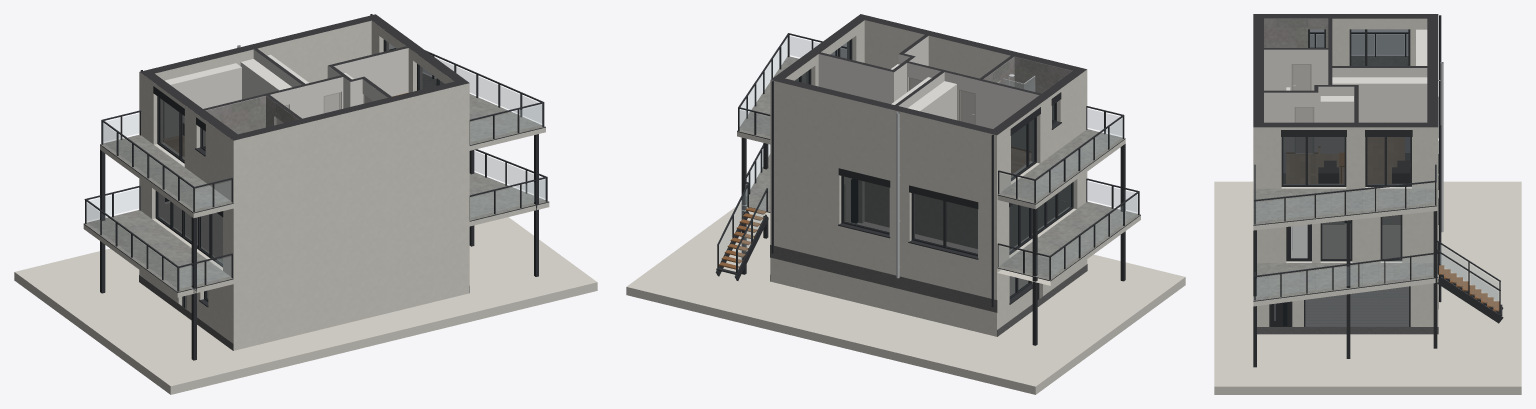
The model's file is dum_b_2np.glb.
The picture shows the model from 3 angles, left to right: view 1: azimuth 30°, elevation 25°; view 2: azimuth 150°, elevation 25°; view 3: azimuth 270°, elevation 25°; orthographic projection. The views are drawn at different scales.
Parts seen in each view (by area): view 1: B_ext_omitka, podstava, B_ext_dlazba_balkon, B_ext_sklo_zabradli, B_ext_antracit, rez_sten, B_int_omitka_int, B_sklo_sklo, skrin_loz, pevne_obklad, skrin_loz_vstup, B_ext_sokl; view 2: B_ext_omitka, podstava, B_ext_antracit, B_ext_dlazba_balkon, B_ext_sklo_zabradli, B_sklo_sklo, B_int_omitka_int, rez_sten, B_ext_sokl, pevne_obklad, skrin_loz_vstup, B_ext_drevo (+2 smaller); view 3: podstava, B_ext_omitka, B_ext_dlazba_balkon, B_ext_antracit, B_sklo_sklo, B_ext_sklo_zabradli, rez_sten, B_int_omitka_int, B_ext_vrata, skrin_p112, pevne_vinyl, pevne_obklad (+11 smaller).
Boxes of the visible parts, x1,y1,x2,y2 form: B_ext_omitka: (83,20,549,350); podstava: (14,217,597,394); B_ext_dlazba_balkon: (84,73,548,291); B_ext_sklo_zabradli: (86,58,545,288); B_ext_antracit: (84,14,548,360); rez_sten: (140,14,469,140); B_int_omitka_int: (205,48,408,125); B_sklo_sklo: (157,40,444,309); skrin_loz: (163,63,241,138); pevne_obklad: (206,96,297,134); skrin_loz_vstup: (240,59,291,99); B_ext_sokl: (139,275,469,350); B_ext_omitka: (737,20,1140,336); podstava: (626,202,1185,394); B_ext_antracit: (715,33,1140,345); B_ext_dlazba_balkon: (737,56,1140,280); B_ext_sklo_zabradli: (719,36,1137,276); B_sklo_sklo: (795,40,1071,296); B_int_omitka_int: (818,36,1039,150); rez_sten: (771,14,1086,135); B_ext_sokl: (770,244,1087,336); pevne_obklad: (984,57,1071,93); skrin_loz_vstup: (908,81,956,120); B_ext_drevo: (718,207,766,269); podstava: (1214,181,1521,394); B_ext_omitka: (1253,18,1438,326); B_ext_dlazba_balkon: (1253,56,1438,300); B_ext_antracit: (1253,15,1503,367); B_sklo_sklo: (1283,29,1410,326); B_ext_sklo_zabradli: (1256,184,1498,310); rez_sten: (1253,14,1438,127); B_int_omitka_int: (1264,49,1427,151); B_ext_vrata: (1305,286,1408,326); skrin_p112: (1332,77,1427,122); pevne_vinyl: (1286,137,1404,183); pevne_obklad: (1264,19,1328,47).
Bounding box in the file's own units: 18.6 × 9.14 × 11.8.
Materials: 31 (8 with a texture image).
